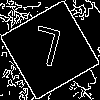L: (25, 25, 64, 76)
